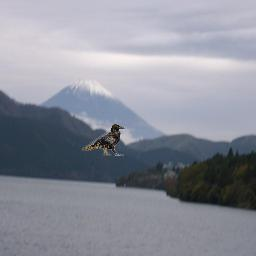Crow: (82, 124, 125, 156)
